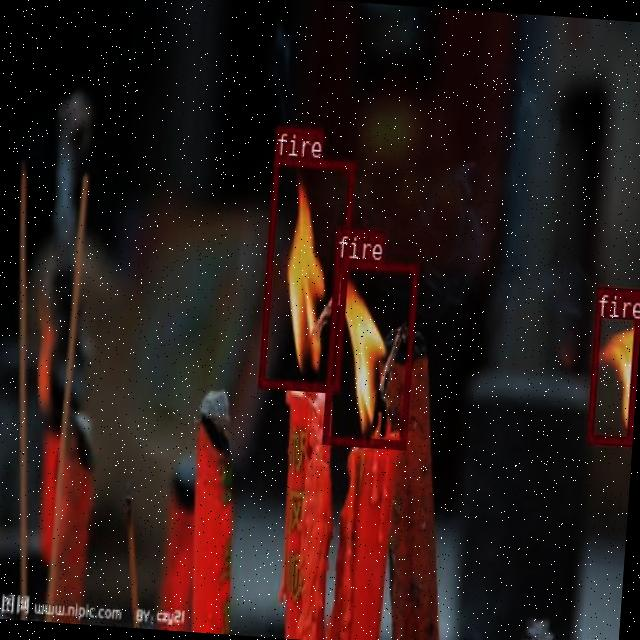fire: (257, 155, 354, 391), (322, 258, 418, 448), (585, 286, 640, 443)
